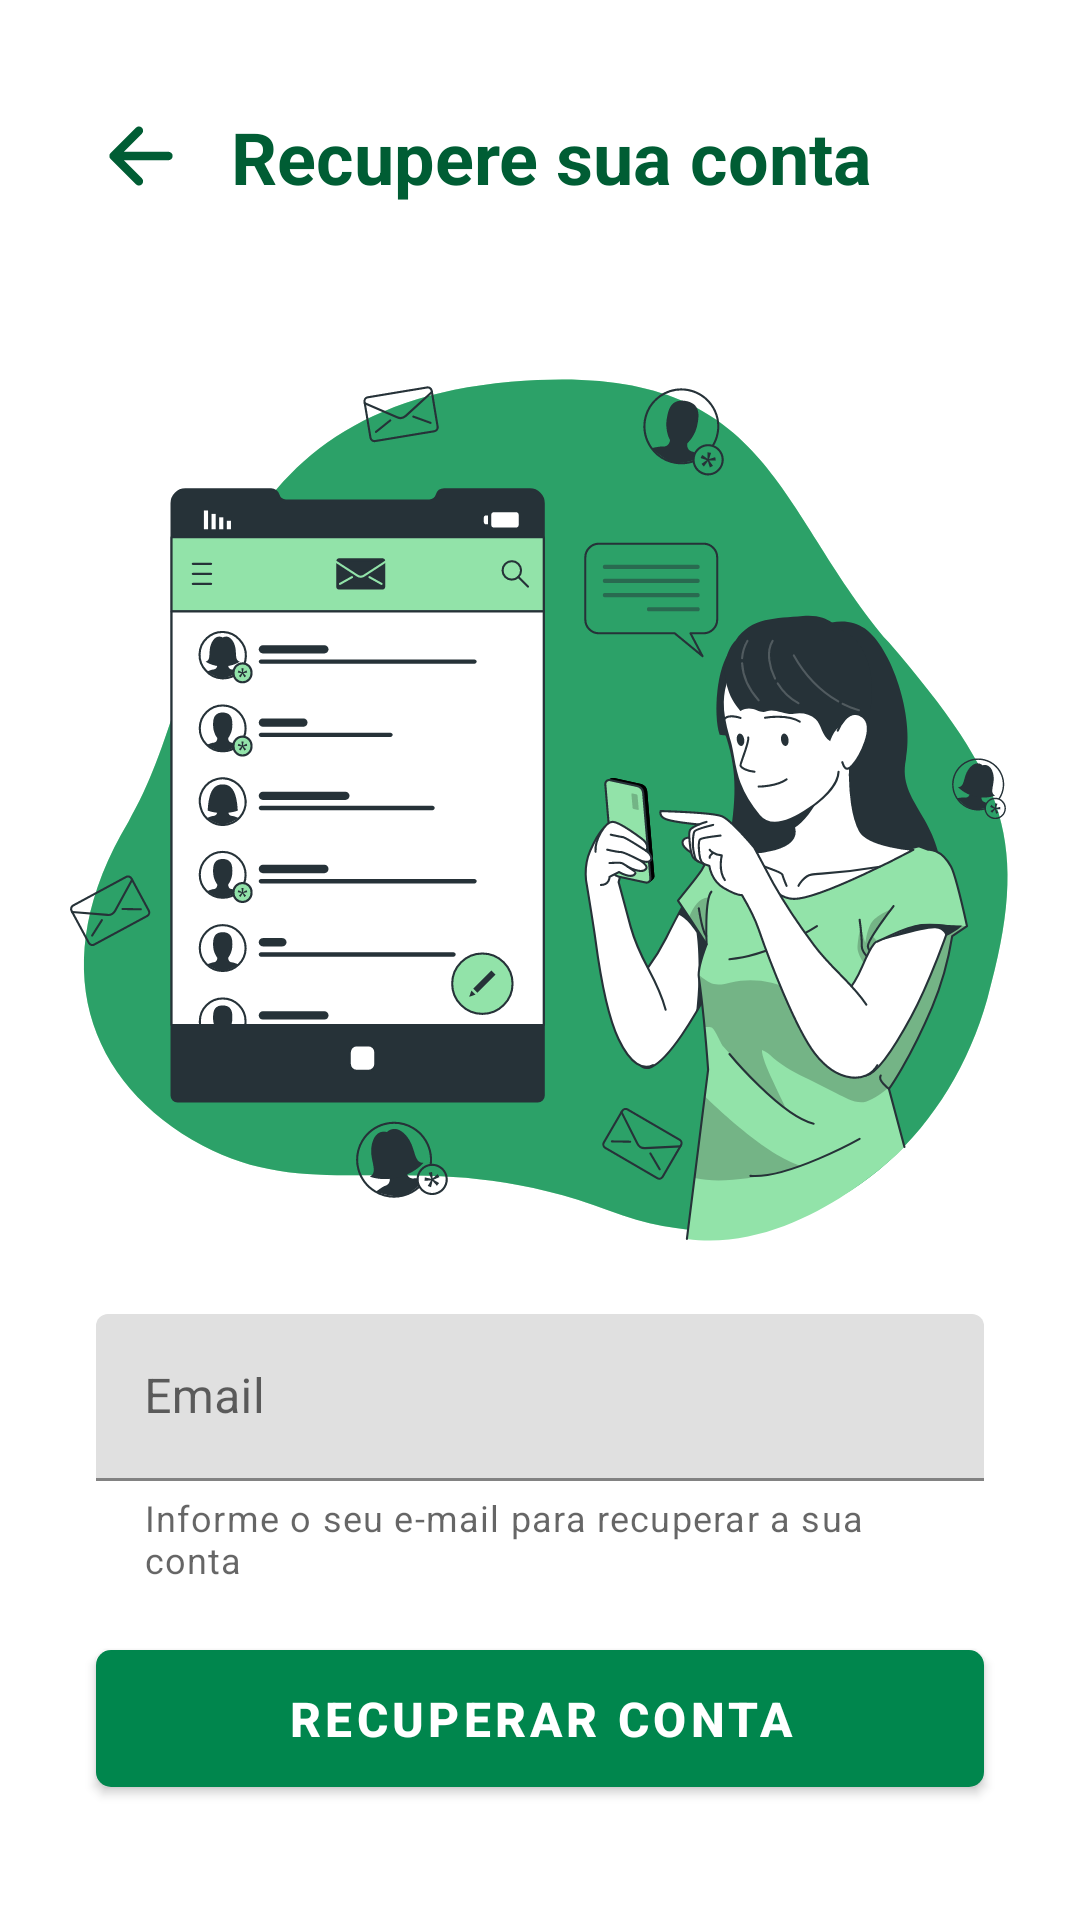

Locate icon controls on the screen. Image size 1080×1920, boxes as [x1,y1,x2,y2].
back: [109,126,173,186]
